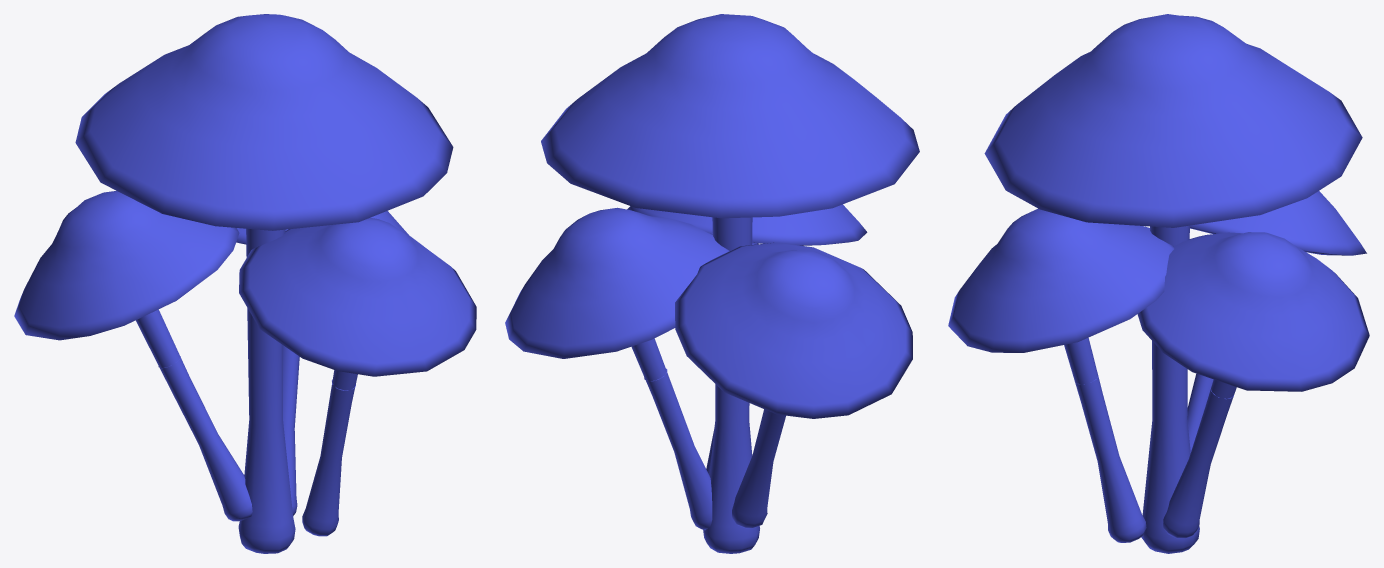
Rendered from mantar1.fbx.
3 views of the same model, side by side, from view 1: azimuth 30°, elevation 25°; view 2: azimuth 150°, elevation 25°; view 3: azimuth 270°, elevation 25° (orthographic).
Visible parts, largest first — view 1: mantar_1.001; view 2: mantar_1.001; view 3: mantar_1.001.
Part boxes in pixels (x1,y1,x2,y2): mantar_1.001: [14, 14, 476, 553]; mantar_1.001: [505, 14, 919, 553]; mantar_1.001: [948, 14, 1369, 553].
Size of the model in its own units: 24.51 by 32.6 by 24.01.
